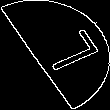L_SW: (18, 29, 92, 81)
